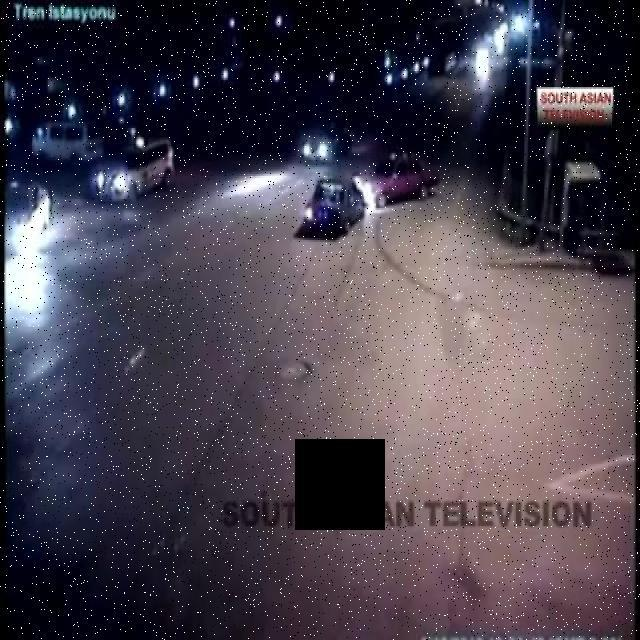moderate: (300, 150, 443, 238)
